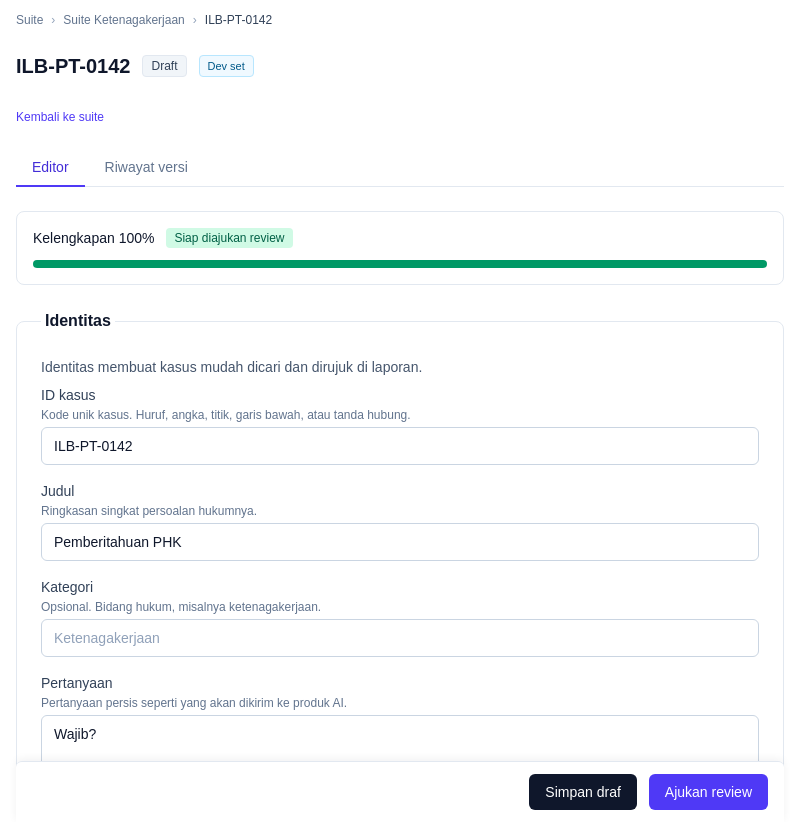
Scenario: EditCasePage submit for review (SCRUM-148) › keeps the save hint inside the bar while the editor has unsaved changes
Expected: the button "Ajukan review" is shown, [649,774,768,810]
Type " baru" into the field labelled "Judul" at (400, 542), box [41,523,759,561]
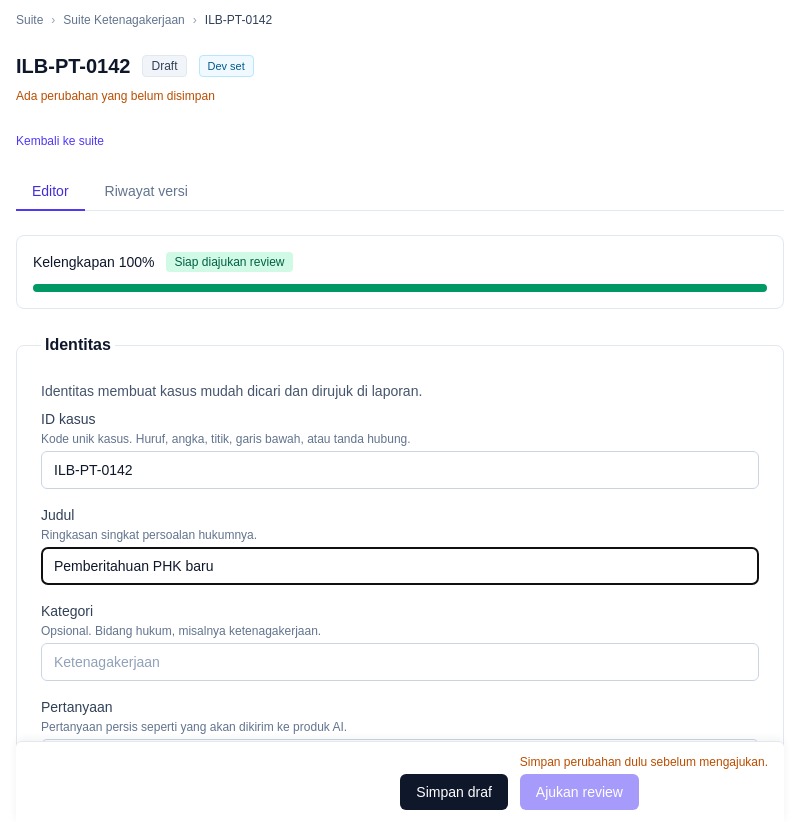
Expected: the text "Simpan perubahan dulu sebelum mengajukan." is shown, [520,754,768,770]
